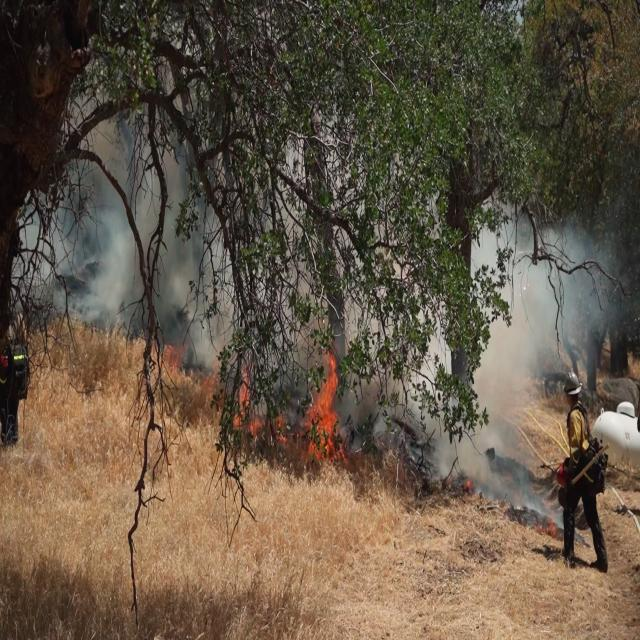Fire: (303, 358, 345, 448)
Smoke: (68, 109, 212, 346), (472, 220, 593, 474)
